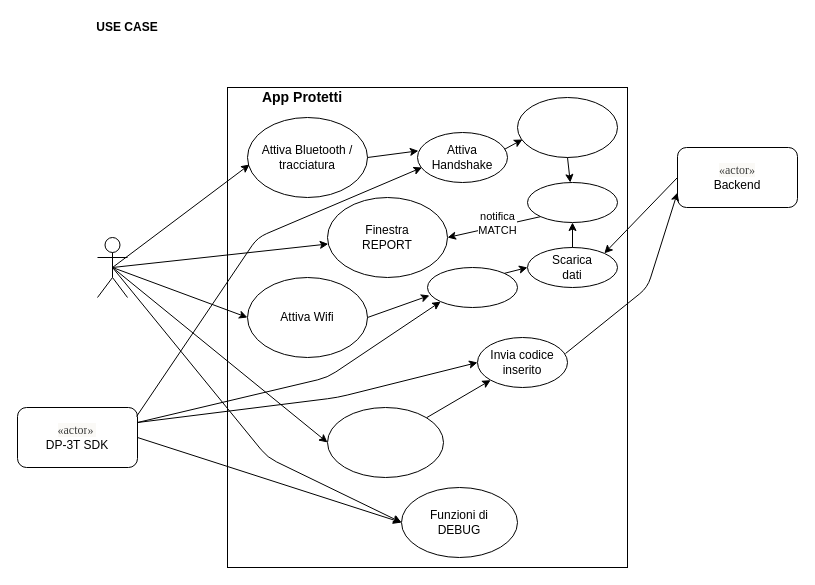
This 815x585 diagram has some shape labels left out. The shapes that lost their labels are listed below. From the top down, each one's box as (x1, y1, x2, y2) in pixels, then its label:
(516, 96, 618, 158): Registra eshId contattati
(526, 182, 618, 222): Verifica MATCH
(96, 236, 128, 298): Actor
(426, 266, 518, 308): Attiva Sync
(326, 406, 444, 478): INFORMA DELLA MALATTIA
